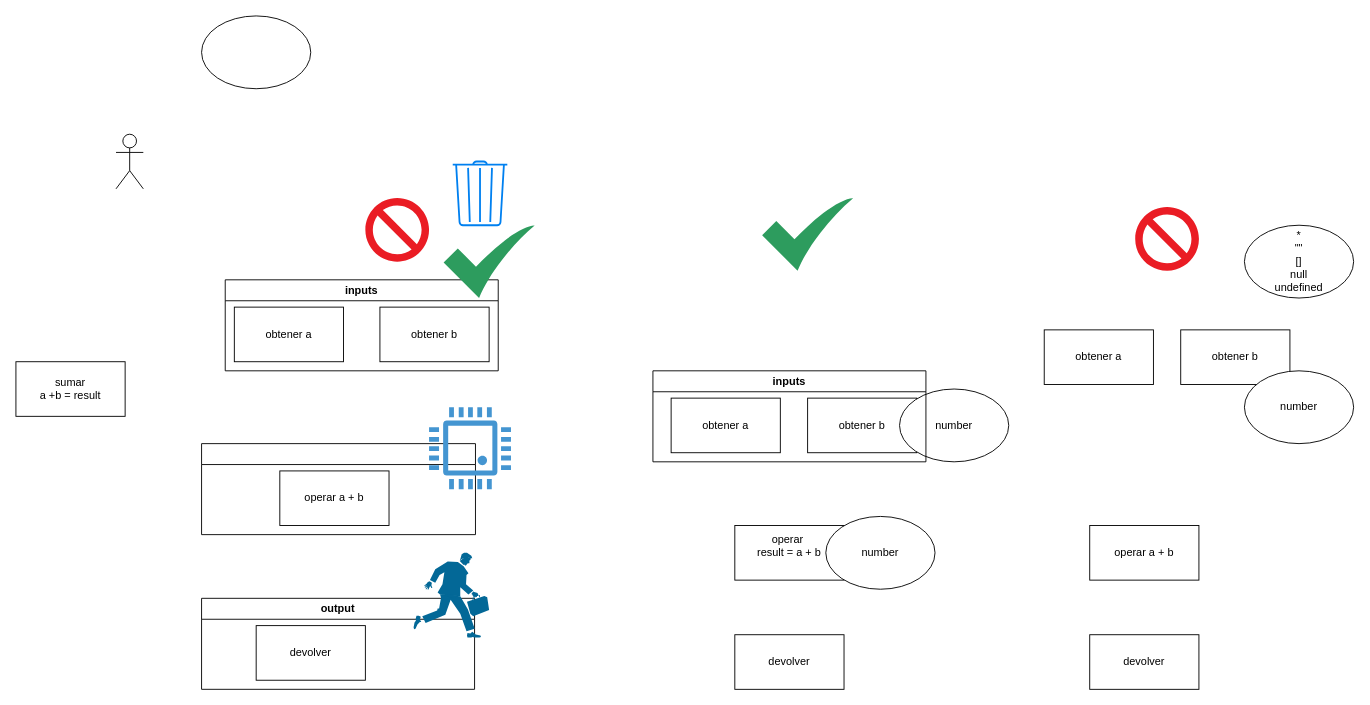
This 1370x705 diagram has some shape labels left out. Here are the shapes that lost their labels. From the top down, the box of each, then its label:
(115, 133, 143, 189): Actor
(201, 443, 475, 535): Lógica de negocio
